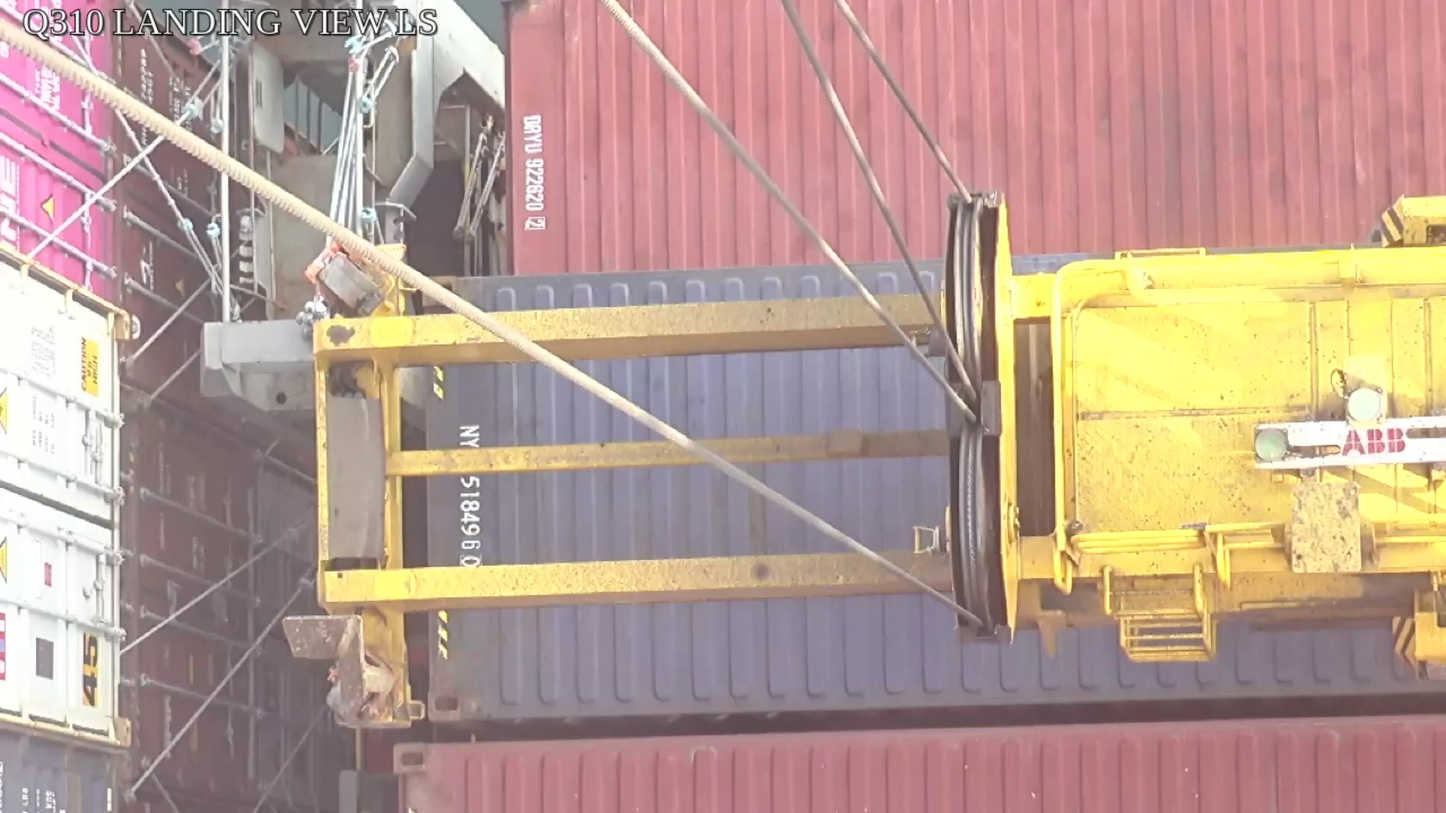aa: (939, 190, 1021, 649)
